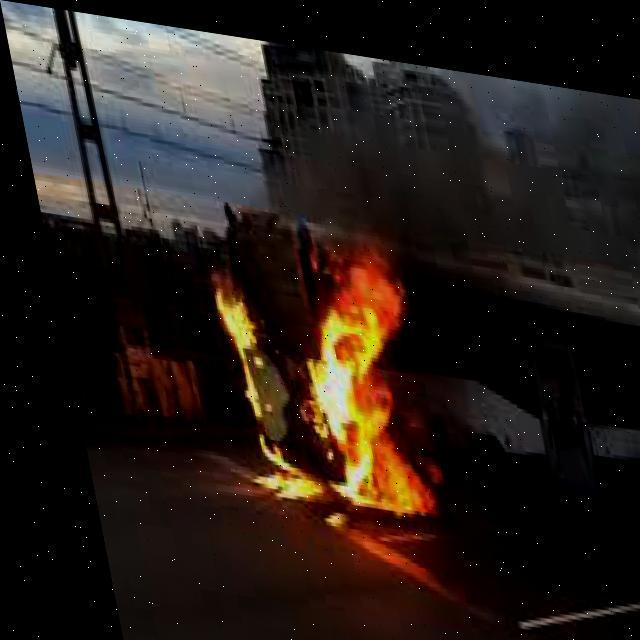Fire: (178, 205, 436, 522)
